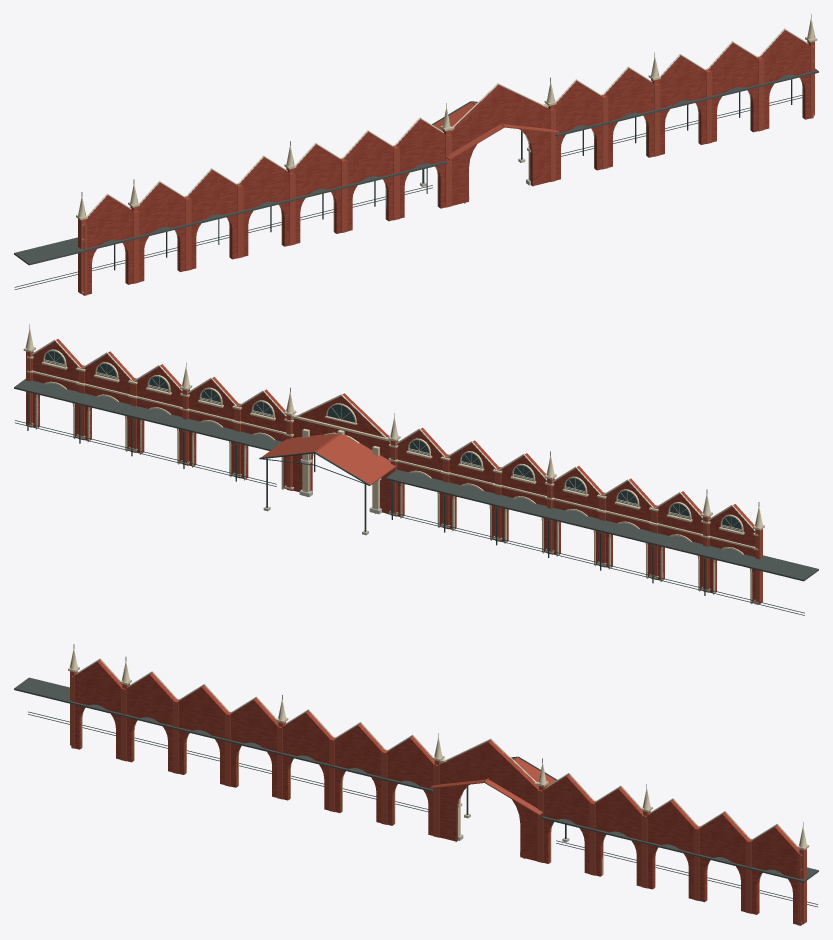
File: KOL_T1_NEW_MARKET__02_Frontage.fbx
The picture shows the model from 3 angles, top to bottom: view 1: azimuth 30°, elevation 25°; view 2: azimuth 150°, elevation 25°; view 3: azimuth 330°, elevation 25°; orthographic projection.
Parts seen in each view (by area): view 1: KOL_T1_NEW_MARKET__02_Frontage__KOL_T1_B4_Brick_00, KOL_T1_NEW_MARKET__02_Frontage__KOL_T1_B4_BrickLight_00, KOL_T1_NEW_MARKET__02_Frontage__KOL_T1_B4_Slate_00, KOL_T1_NEW_MARKET__02_Frontage__KOL_T1_B4_Iron_00, KOL_T1_NEW_MARKET__02_Frontage__KOL_T1_B4_Ivory_00, KOL_T1_NEW_MARKET__02_Frontage__KOL_T1_B4_Trim_00; view 2: KOL_T1_NEW_MARKET__02_Frontage__KOL_T1_B4_Brick_00, KOL_T1_NEW_MARKET__02_Frontage__KOL_T1_B4_Ivory_00, KOL_T1_NEW_MARKET__02_Frontage__KOL_T1_B4_Slate_00, KOL_T1_NEW_MARKET__02_Frontage__KOL_T1_B4_BrickLight_00, KOL_T1_NEW_MARKET__02_Frontage__KOL_T1_B4_Iron_00, KOL_T1_NEW_MARKET__02_Frontage__KOL_T1_B4_Glass_00, KOL_T1_NEW_MARKET__02_Frontage__KOL_T1_B4_Trim_00; view 3: KOL_T1_NEW_MARKET__02_Frontage__KOL_T1_B4_Brick_00, KOL_T1_NEW_MARKET__02_Frontage__KOL_T1_B4_BrickLight_00, KOL_T1_NEW_MARKET__02_Frontage__KOL_T1_B4_Slate_00, KOL_T1_NEW_MARKET__02_Frontage__KOL_T1_B4_Ivory_00, KOL_T1_NEW_MARKET__02_Frontage__KOL_T1_B4_Trim_00, KOL_T1_NEW_MARKET__02_Frontage__KOL_T1_B4_Iron_00.
Boxes of the visible parts, box(x1,y1,x2,y2) form: KOL_T1_NEW_MARKET__02_Frontage__KOL_T1_B4_Brick_00: box(82, 30, 811, 294); KOL_T1_NEW_MARKET__02_Frontage__KOL_T1_B4_BrickLight_00: box(78, 41, 814, 295); KOL_T1_NEW_MARKET__02_Frontage__KOL_T1_B4_Slate_00: box(14, 68, 818, 265); KOL_T1_NEW_MARKET__02_Frontage__KOL_T1_B4_Iron_00: box(14, 14, 811, 289); KOL_T1_NEW_MARKET__02_Frontage__KOL_T1_B4_Ivory_00: box(76, 19, 817, 293); KOL_T1_NEW_MARKET__02_Frontage__KOL_T1_B4_Trim_00: box(87, 28, 808, 216); KOL_T1_NEW_MARKET__02_Frontage__KOL_T1_B4_Brick_00: box(32, 339, 755, 602); KOL_T1_NEW_MARKET__02_Frontage__KOL_T1_B4_Ivory_00: box(23, 329, 764, 604); KOL_T1_NEW_MARKET__02_Frontage__KOL_T1_B4_Slate_00: box(14, 378, 818, 581); KOL_T1_NEW_MARKET__02_Frontage__KOL_T1_B4_BrickLight_00: box(26, 351, 762, 604); KOL_T1_NEW_MARKET__02_Frontage__KOL_T1_B4_Iron_00: box(15, 324, 804, 615); KOL_T1_NEW_MARKET__02_Frontage__KOL_T1_B4_Glass_00: box(45, 351, 741, 531); KOL_T1_NEW_MARKET__02_Frontage__KOL_T1_B4_Trim_00: box(31, 339, 755, 531); KOL_T1_NEW_MARKET__02_Frontage__KOL_T1_B4_Brick_00: box(73, 660, 801, 925); KOL_T1_NEW_MARKET__02_Frontage__KOL_T1_B4_BrickLight_00: box(70, 671, 806, 925); KOL_T1_NEW_MARKET__02_Frontage__KOL_T1_B4_Slate_00: box(14, 677, 818, 882); KOL_T1_NEW_MARKET__02_Frontage__KOL_T1_B4_Ivory_00: box(68, 649, 809, 923); KOL_T1_NEW_MARKET__02_Frontage__KOL_T1_B4_Trim_00: box(76, 658, 797, 846); KOL_T1_NEW_MARKET__02_Frontage__KOL_T1_B4_Iron_00: box(28, 644, 817, 907).
Size of the model in its own units: 273 by 36.75 by 20.43.
Materials: 8 (2 with a texture image).
